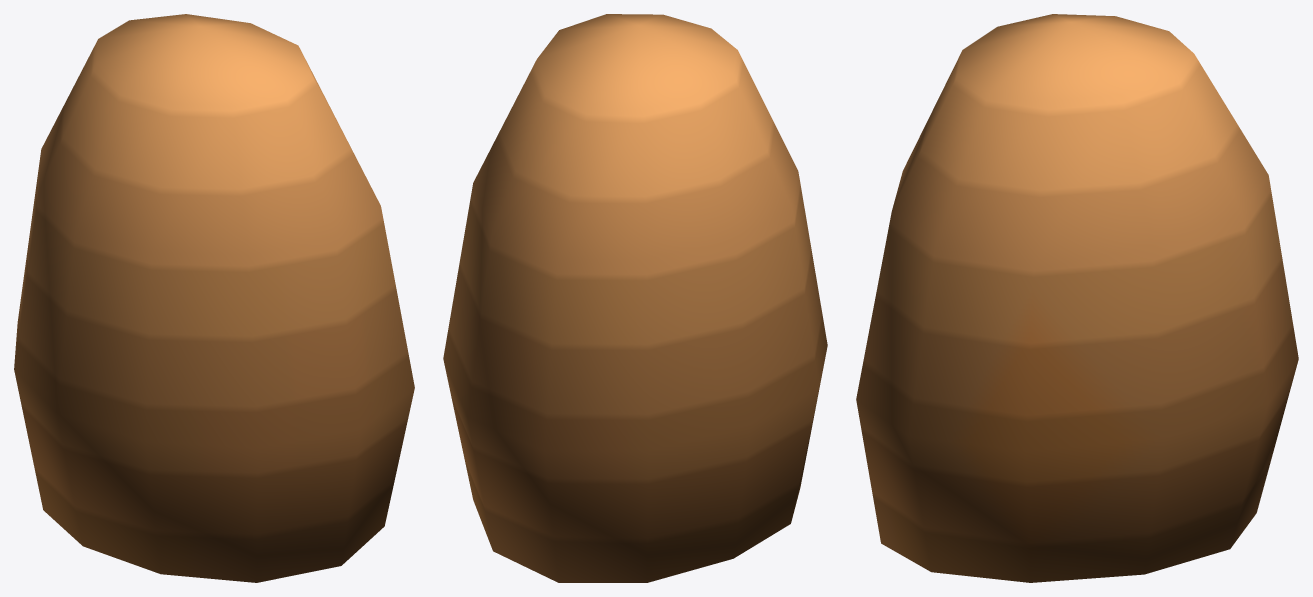
The model's file is rock_005.fbx.
The picture shows the model from 3 angles, left to right: view 1: azimuth 30°, elevation 25°; view 2: azimuth 150°, elevation 25°; view 3: azimuth 270°, elevation 25°; orthographic projection. The views are drawn at different scales.
Visible parts, largest first — view 1: rock.005; view 2: rock.005; view 3: rock.005.
Part boxes in pixels (<box>): rock.005: <box>14,14,414,582</box>; rock.005: <box>443,14,827,582</box>; rock.005: <box>856,14,1298,582</box>.
Bounding box in the file's own units: 24.56 × 36.82 × 27.49.
